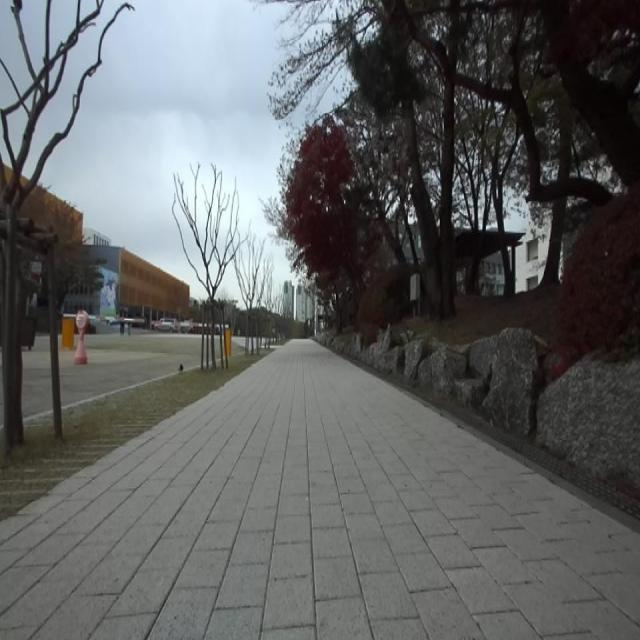sidewalk: (0, 340, 640, 639)
